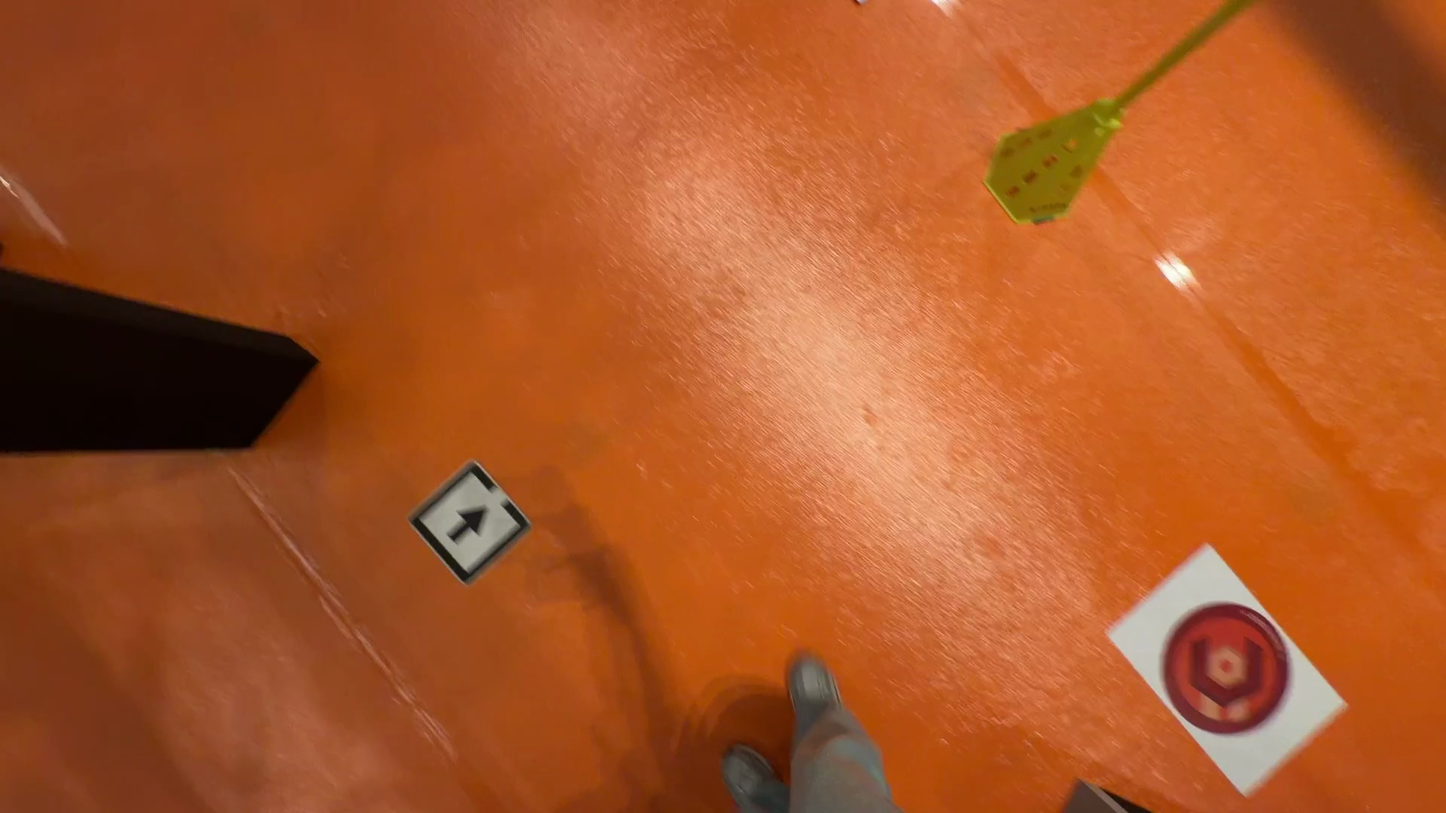landing_pad: (1164, 605, 1292, 737)
